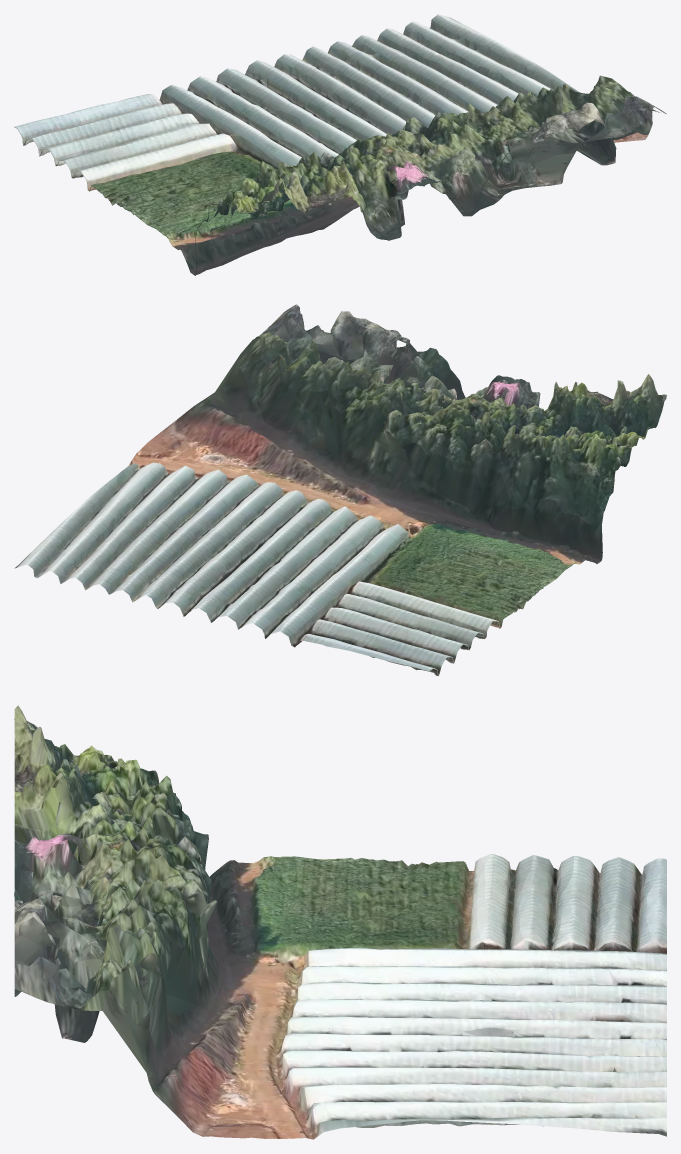
File: BlockBY_L18_3.glb
3 renders of one model, top to bottom at view 1: azimuth 30°, elevation 25°; view 2: azimuth 150°, elevation 25°; view 3: azimuth 270°, elevation 25°, orthographic. The views are drawn at different scales.
Parts seen in each view (by area): view 1: rtc; view 2: rtc; view 3: rtc.
Boxes of the visible parts, <box> form: rtc: <box>14,14,666,275</box>; rtc: <box>14,304,666,676</box>; rtc: <box>14,705,666,1139</box>.
Size of the model in its own units: 87.69 by 27.64 by 82.78.
Materials: 3 (3 with a texture image).
